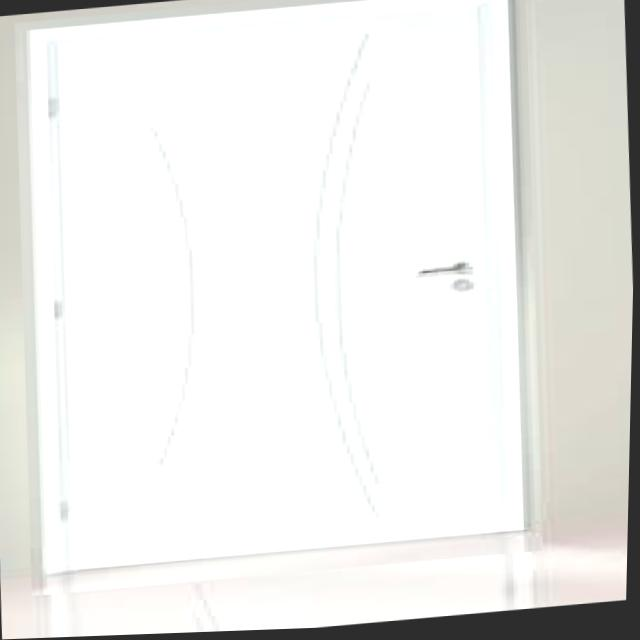close: (5, 0, 557, 600)
